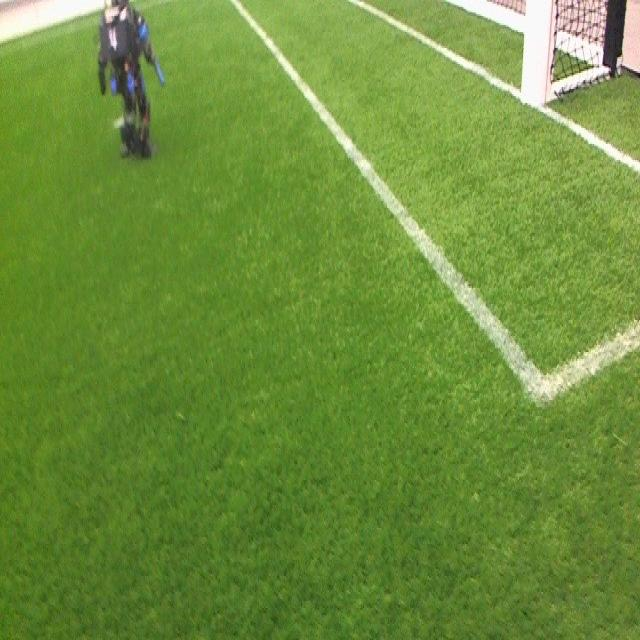goalpost: (518, 2, 552, 106)
